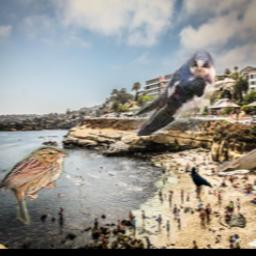Crow: (191, 167, 212, 193)
Sparrow: (0, 147, 70, 227)
Swallow: (134, 49, 216, 137)
